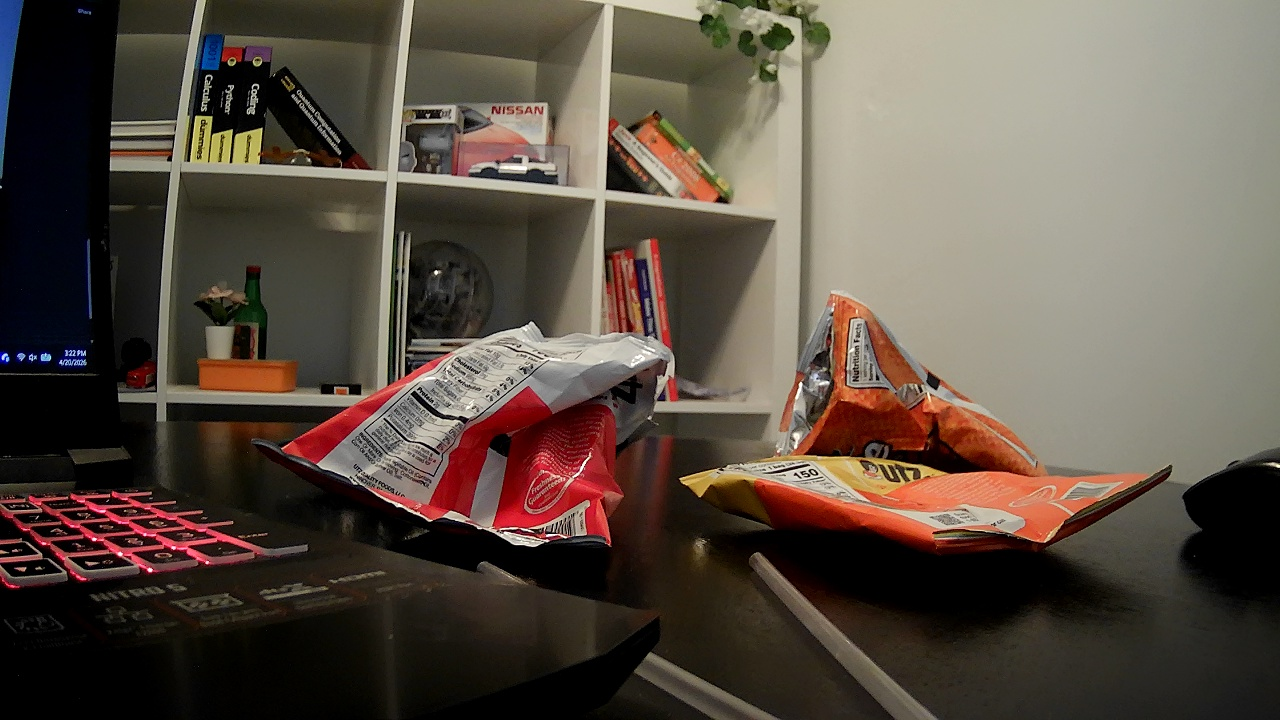trash: (293, 308, 647, 561), (747, 275, 1064, 491), (474, 537, 831, 720), (708, 451, 1125, 559), (720, 560, 976, 720)
